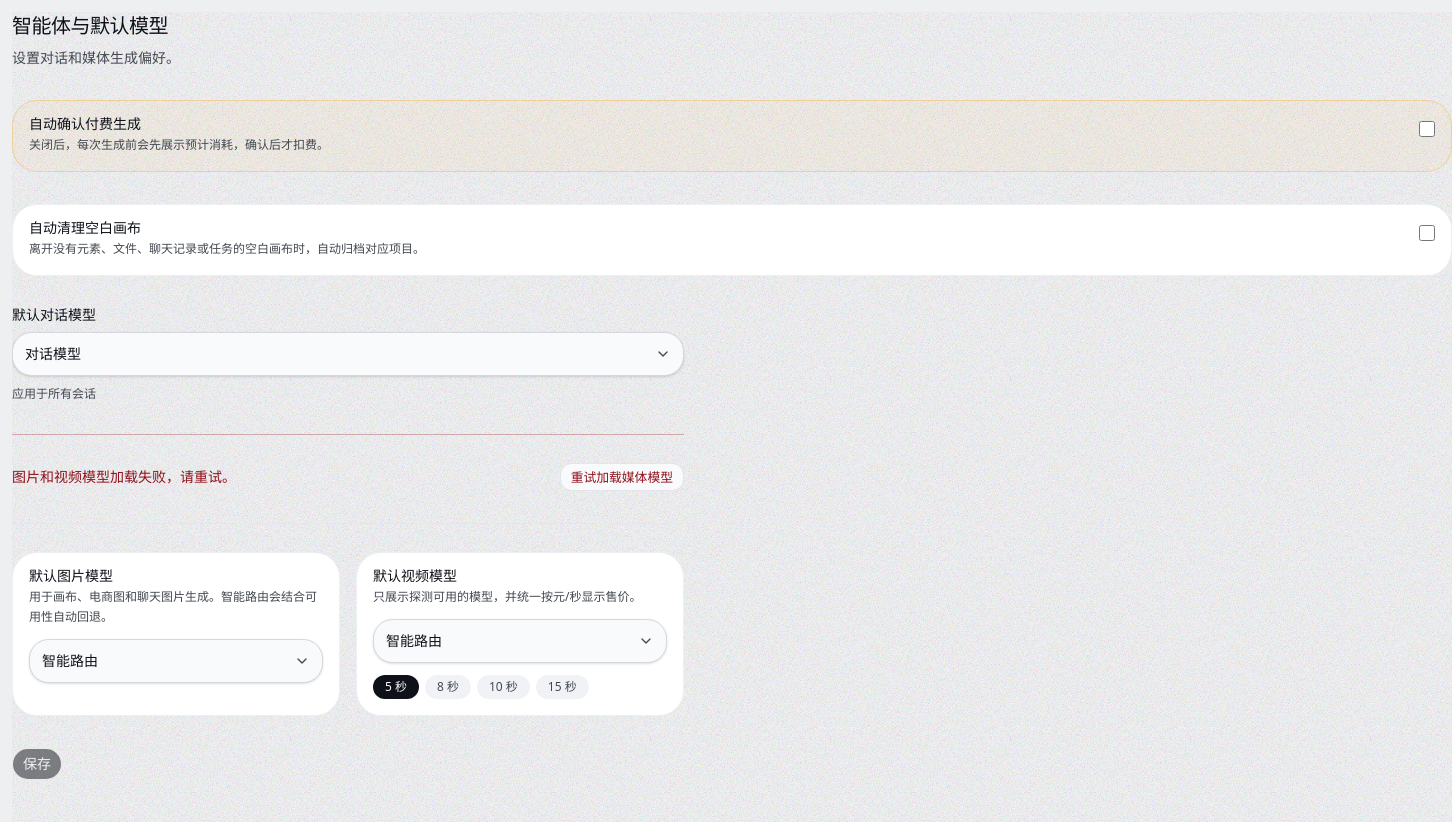
Test: AgentSection › offers retry when media model loading fails
The width and height of the screenshot is (1452, 822).
Expected: the message shows "图片和视频模型加载失败", [12,467,236,486]
Click the button "重试加载媒体模型": (622, 477) [560,463,684,491]
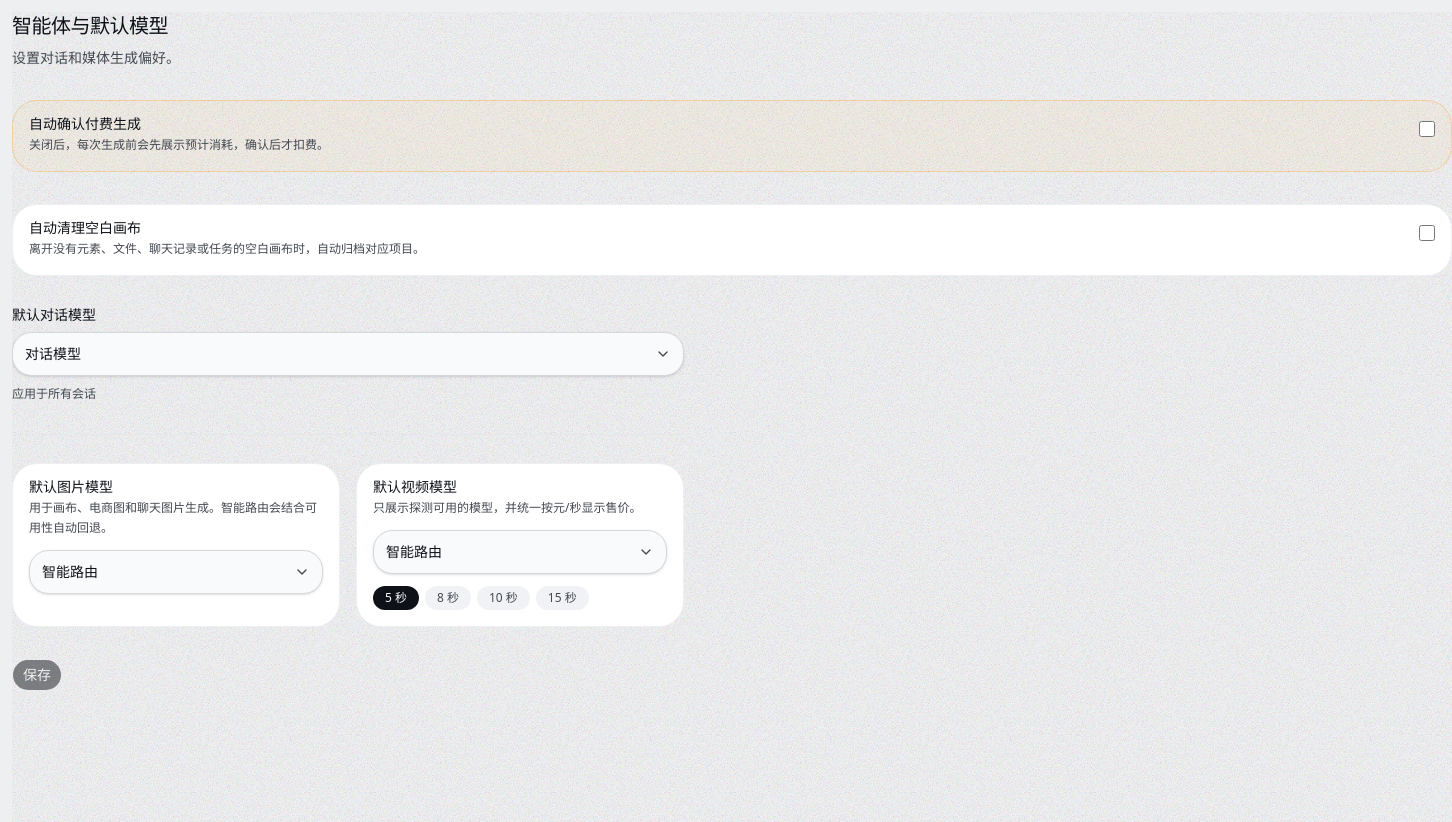
Expected: the dropdown named "默认图片模型" is shown, [29,550,323,594]
Result: the message "图片和视频模型加载失败，请重试。 重试加载媒体模型" is gone
